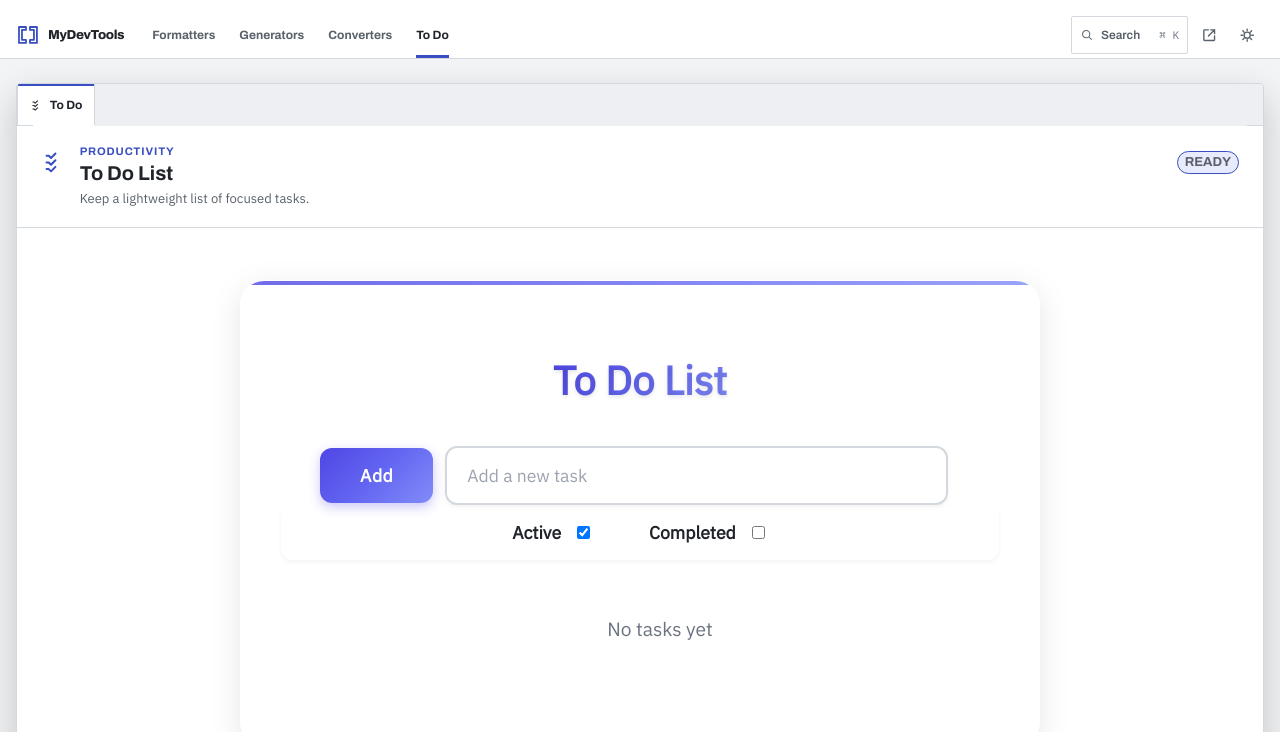
Scenario: To Do List Component › adds a new task
The image size is (1280, 732).
Type "Test Task 1" into the field with test id "task-input". click: (697, 476)
box: [445,446,948,505]
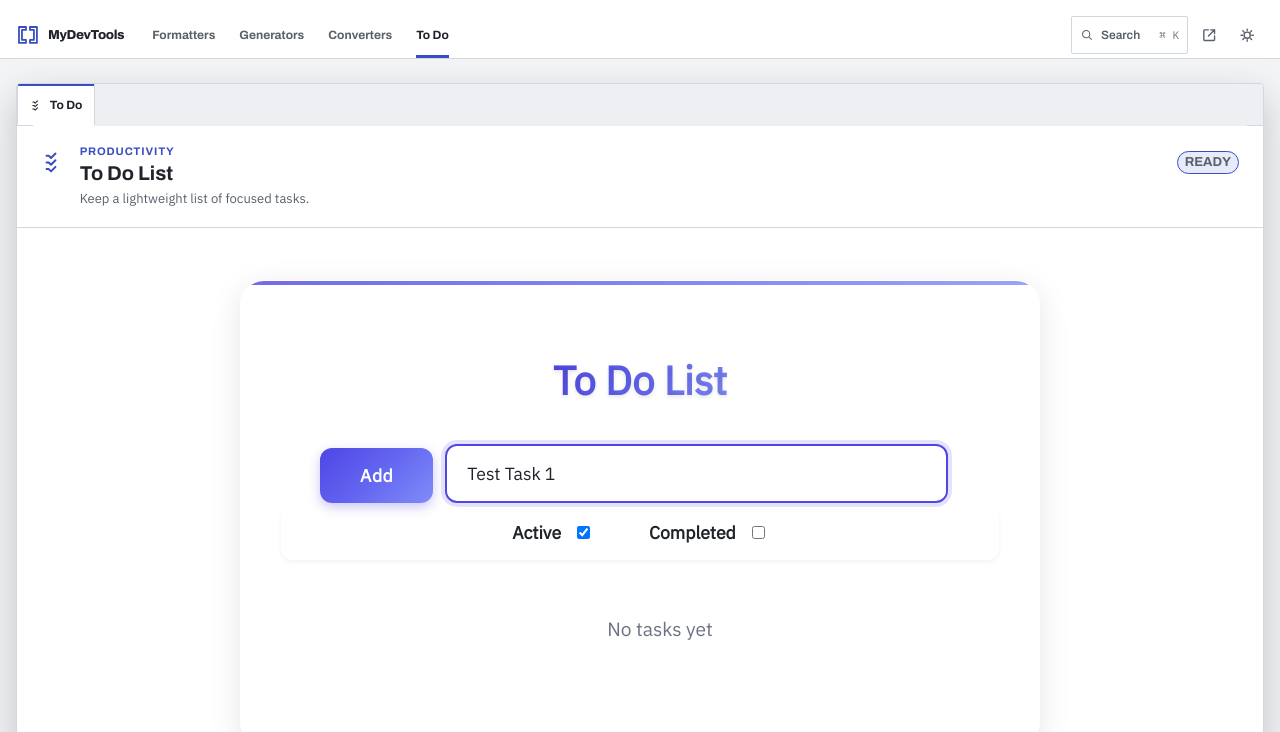
Click the button with test id "add-btn". click: (377, 476)
box: [320,448,433,503]
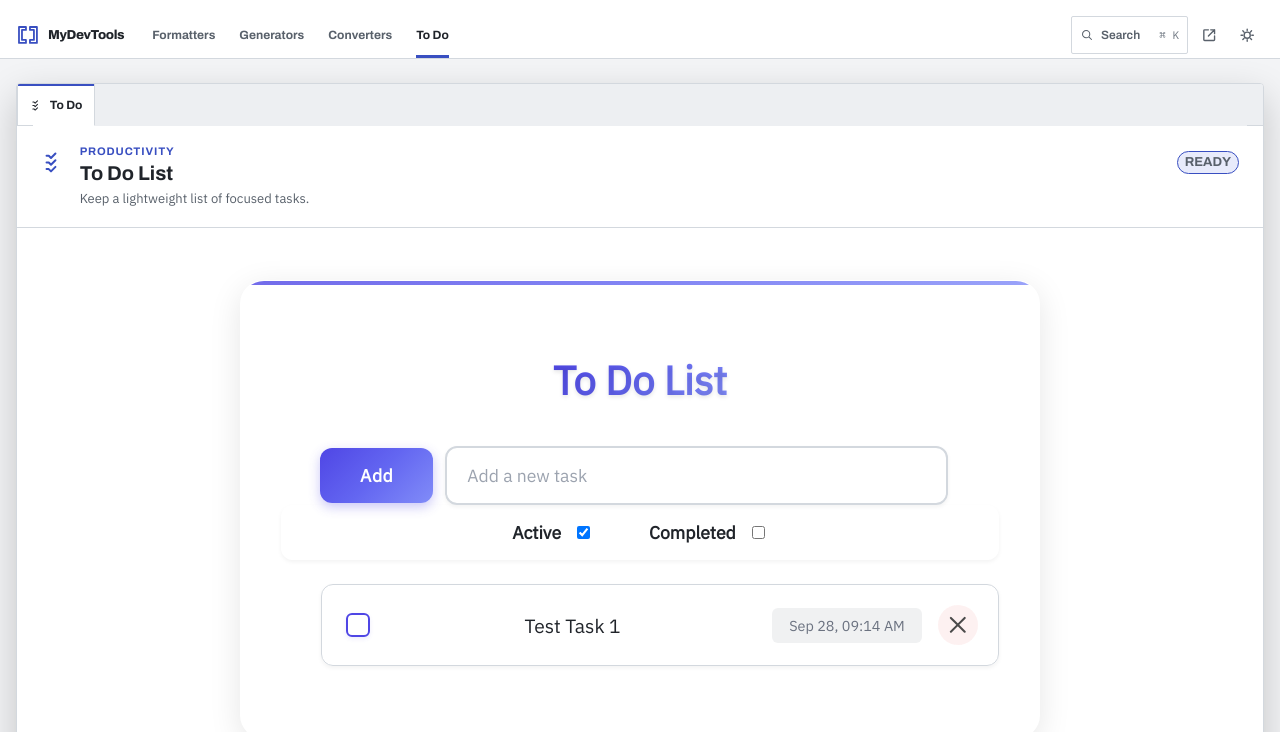
Now the list with test id "task-list" shows "Test Task 1", box [281,584,999,666]
